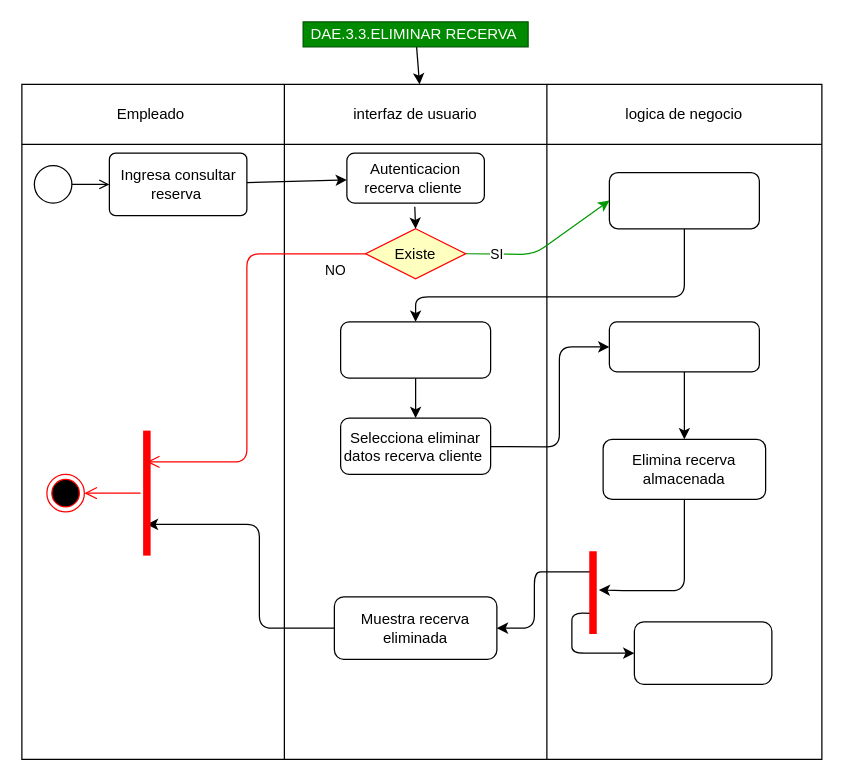
Some shapes in this 844 by 781 pixel diagram are drawn without their labels. Each missing label, with the centre of its shape:
"Consulta datos de entrada almacenados" goes at (683,200).
"Envia correo de confirmacion Cliente" goes at (702,652).
"Muestra datos de entrada" goes at (415,349).
"Valida llave primaria cliente" goes at (683,346).
